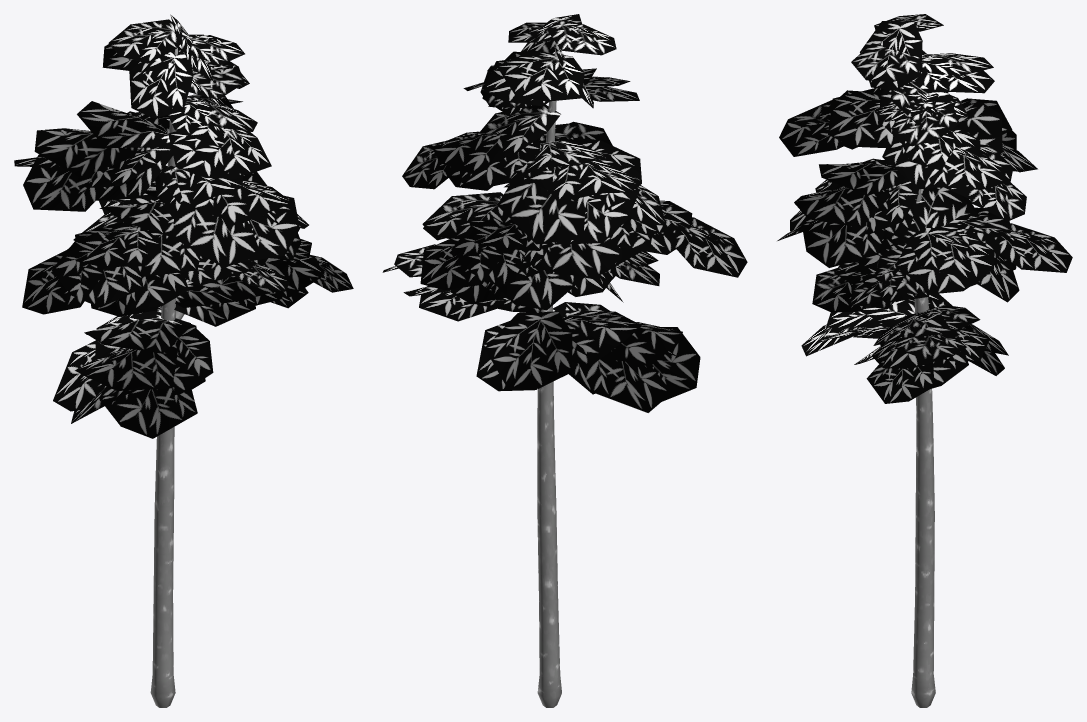
The model's file is P_Bamboo2.obj.
The picture shows the model from 3 angles, left to right: view 1: azimuth 30°, elevation 25°; view 2: azimuth 150°, elevation 25°; view 3: azimuth 270°, elevation 25°; orthographic projection.
Bounding box in the file's own units: 9.08 × 17.61 × 6.91.
